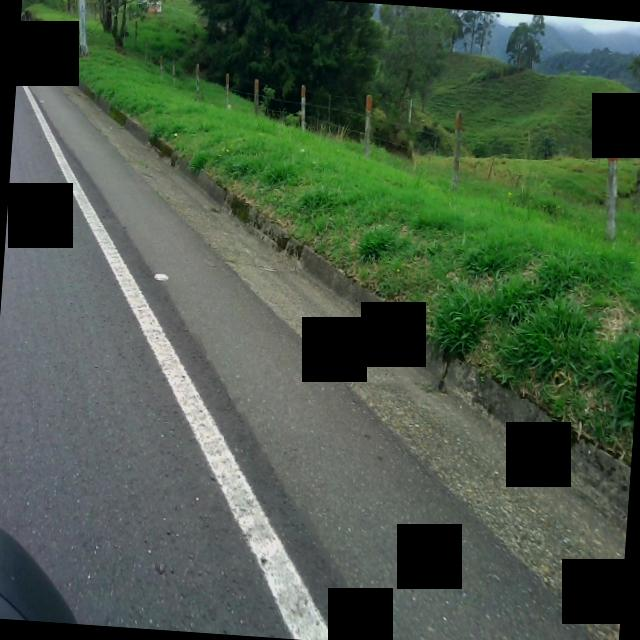DITCH: (0, 17, 640, 640), (0, 31, 640, 640)
